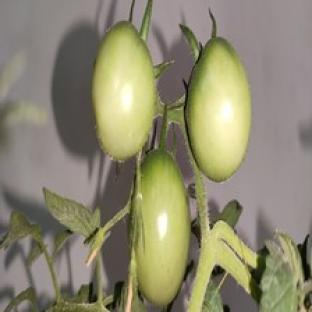Tomato: (187, 38, 250, 181), (92, 21, 155, 161), (136, 151, 190, 306)
